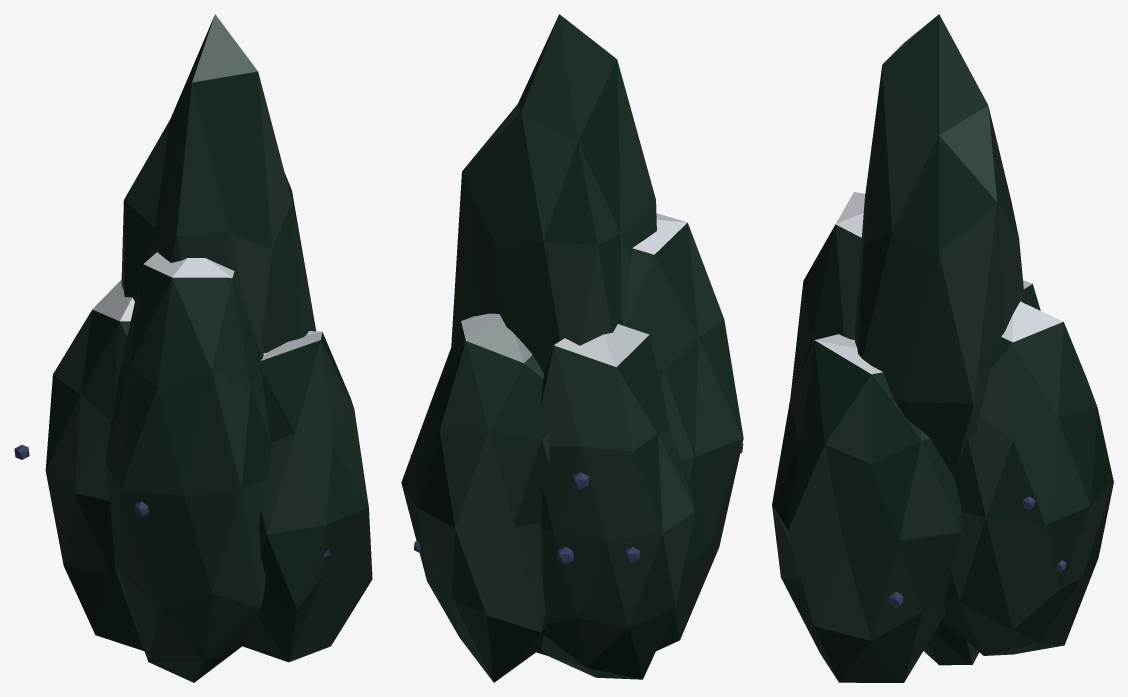
Rendered from juniper_shrub.glb.
The picture shows the model from 3 angles, left to right: view 1: azimuth 30°, elevation 25°; view 2: azimuth 150°, elevation 25°; view 3: azimuth 270°, elevation 25°; orthographic projection. The views are drawn at different scales.
Parts seen in each view (by area): view 1: juniper_shrub; view 2: juniper_shrub; view 3: juniper_shrub.
Part boxes in pixels (x1,y1,x2,y2): juniper_shrub: (14, 14, 372, 682); juniper_shrub: (401, 14, 743, 682); juniper_shrub: (772, 14, 1113, 682).
Size of the model in its own units: 1.01 by 2.38 by 1.12.
